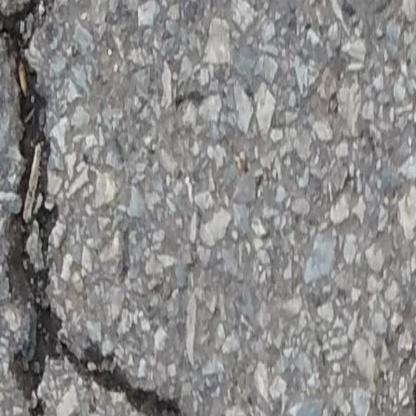Cracks: (0, 0, 197, 416), (396, 323, 416, 416)
